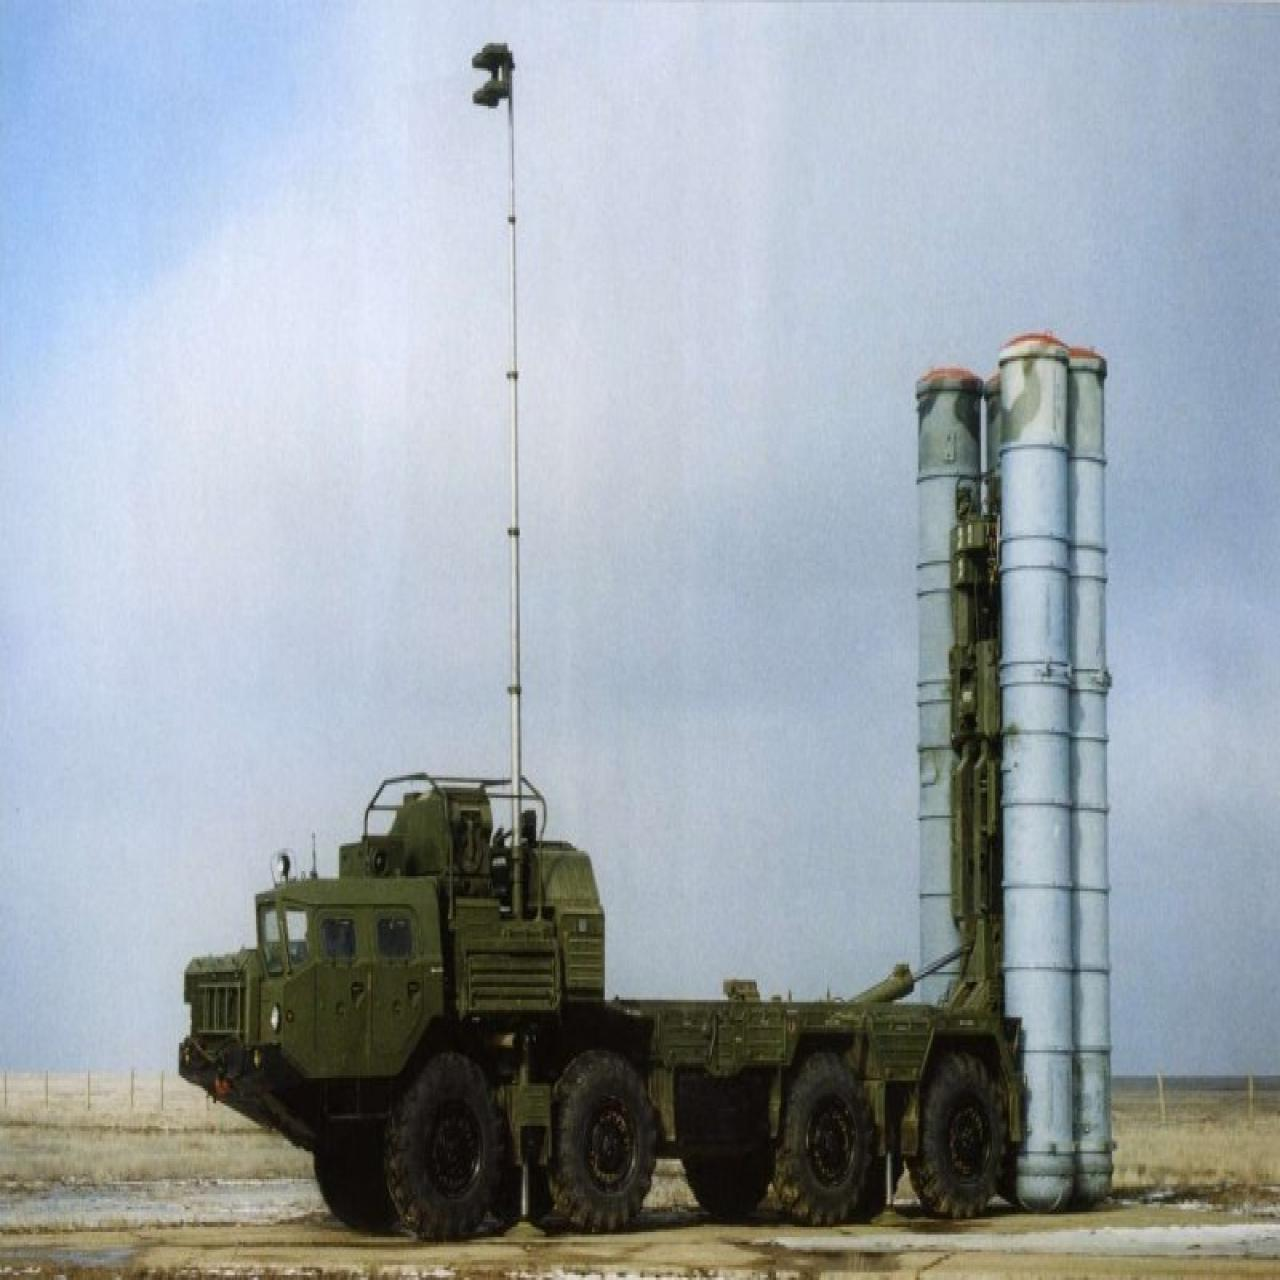MIL_Veh: (184, 332, 1110, 1238)
